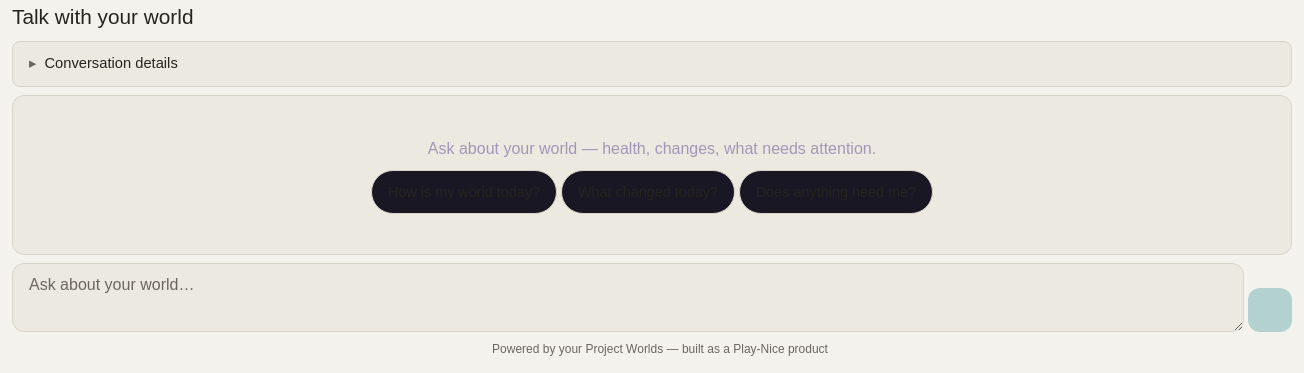
Test: ChatPanel (T12, parity row 7) › send → POST /api/chat with message + history, assistant reply renders
Type "How is my world?" into the text box named "Message" at (628, 298), box left=12, top=263, right=1244, bottom=332
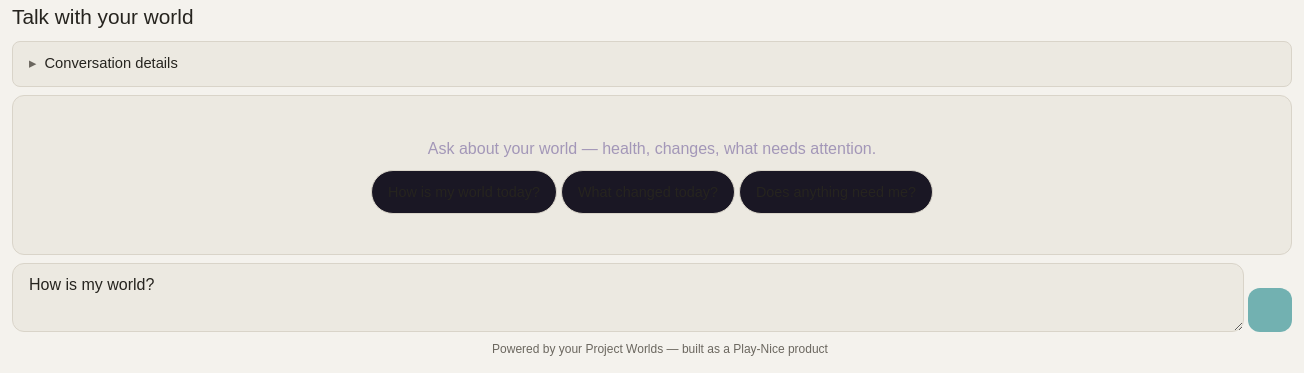
Submit the form named "Message", box left=12, top=263, right=1292, bottom=332
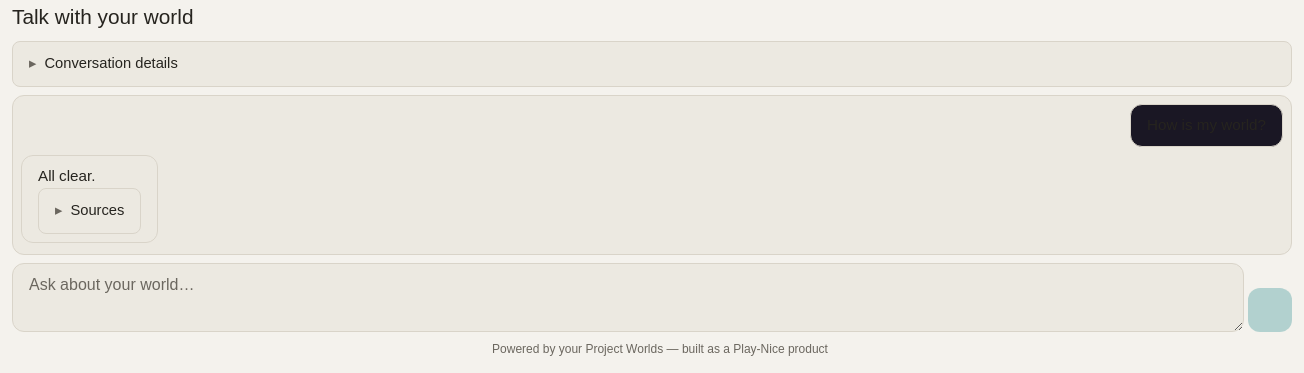
Expected: the text "All clear." is shown, left=38, top=167, right=95, bottom=184
